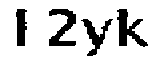2: (42, 4, 78, 51)
k: (115, 4, 152, 52)
l: (11, 7, 32, 53)
y: (79, 17, 114, 60)
